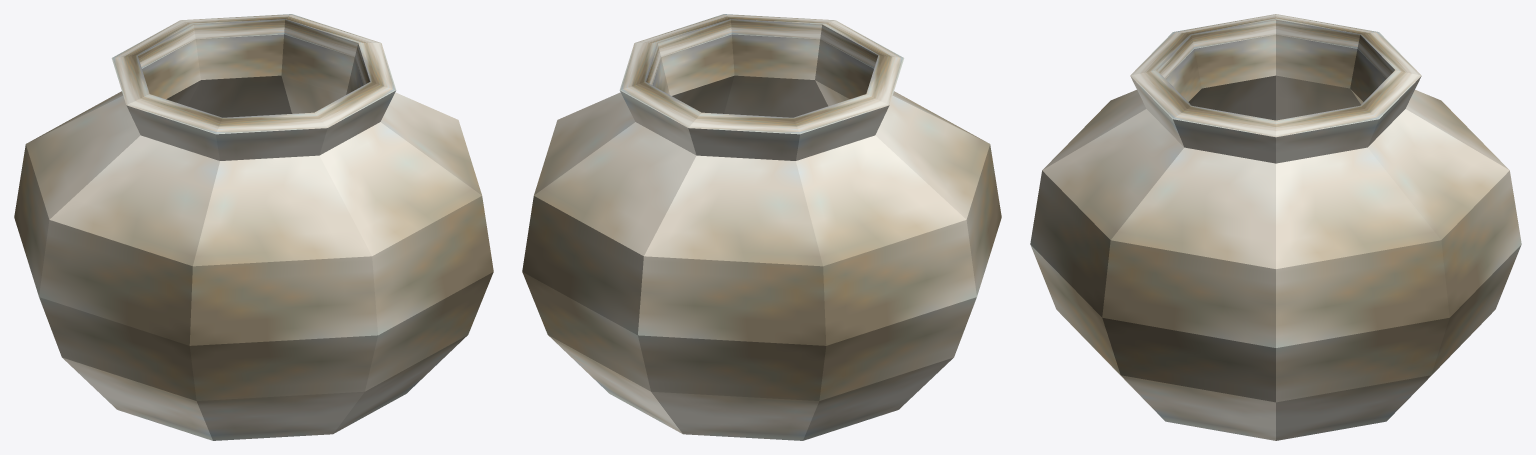
The model's file is Poly_Pot_02_Snow.obj.
3 renders of one model, left to right at view 1: azimuth 30°, elevation 25°; view 2: azimuth 150°, elevation 25°; view 3: azimuth 270°, elevation 25°, orthographic.
Visible parts, largest first — view 1: Torus; view 2: Torus; view 3: Torus.
Boxes of the visible parts, x1,y1,x2,y2 form: Torus: (14, 14, 493, 440); Torus: (522, 14, 1001, 440); Torus: (1030, 14, 1521, 440).
Bounding box in the file's own units: 0.7089 × 0.4945 × 0.7089.
Materials: 1 (1 with a texture image).
